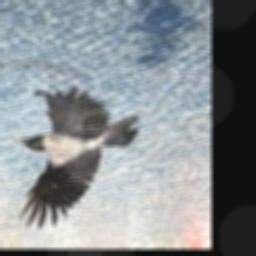Crow: (15, 89, 140, 230)
